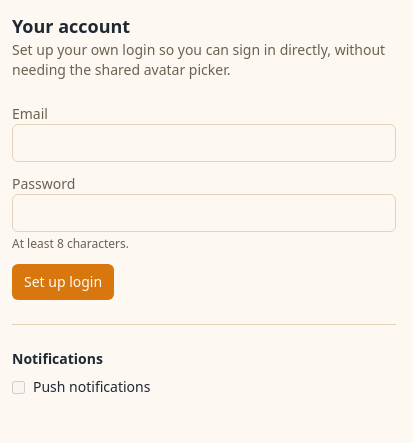
Test: AccountPage › shows an error message when the update fails
Expected: the heading "Your account" is shown, [12,14,130,38]
In the field labelled "Email": (204, 143) [12,124,396,162], type "j@example.com"
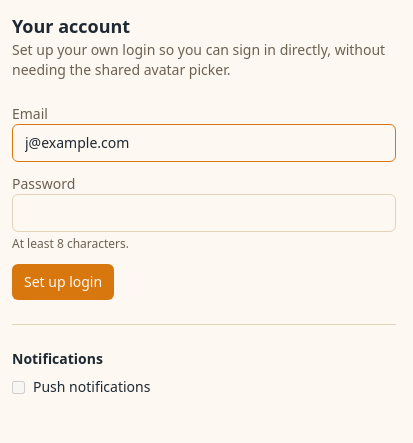
In the password field labelled "Password": (204, 213) [12,194,396,232], type "hunter22"
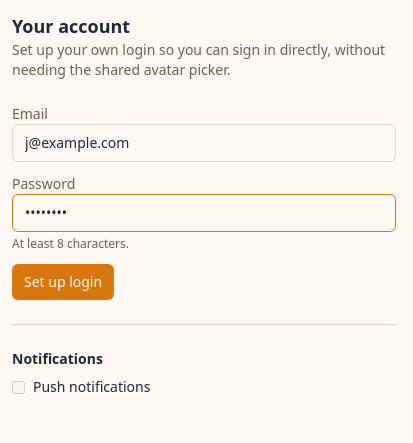
Click the button "Set up login": (63, 282) [12,264,114,300]
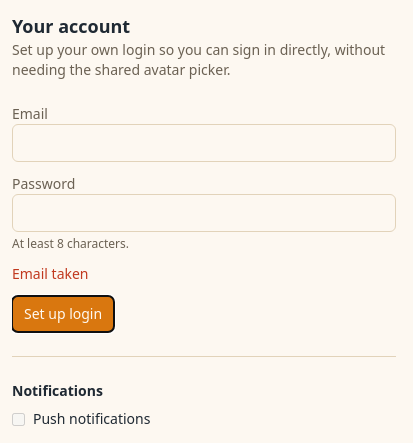
Expected: the message reads "Email taken", [12,264,88,283]
